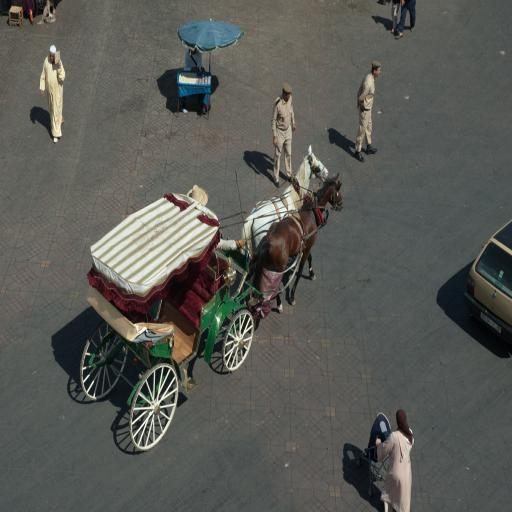horse: (250, 172, 344, 312), (239, 143, 330, 255)
